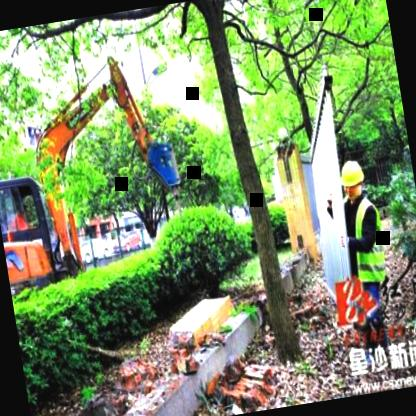helmet: (336, 157, 370, 203)
